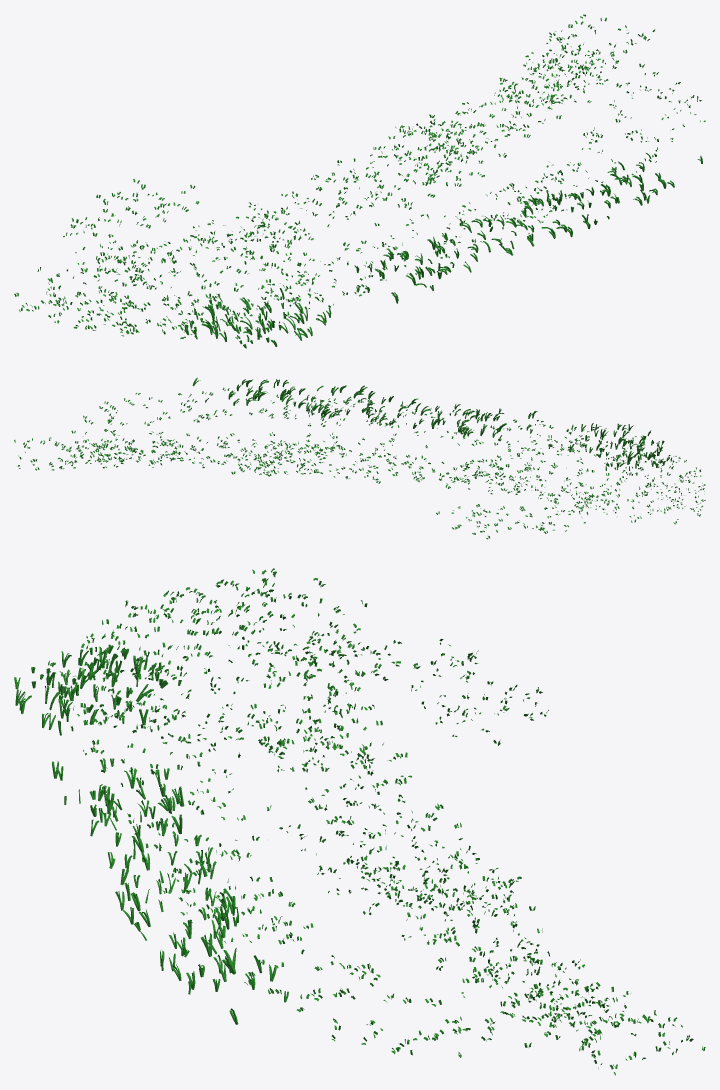
Rendered from grass.fbx.
The picture shows the model from 3 angles, top to bottom: view 1: azimuth 30°, elevation 25°; view 2: azimuth 150°, elevation 25°; view 3: azimuth 270°, elevation 25°; orthographic projection. The views are drawn at different scales.
Parts seen in each view (by area): view 1: grassBermuda1Leaf; view 2: grassBermuda1Leaf; view 3: grassBermuda1Leaf.
Part boxes in pixels (left/top/right/bottom): grassBermuda1Leaf: left=14, top=14, right=705, bottom=348; grassBermuda1Leaf: left=14, top=377, right=705, bottom=539; grassBermuda1Leaf: left=14, top=568, right=705, bottom=1075.
Bounding box in the file's own units: 8.27 × 0.1739 × 4.8.
